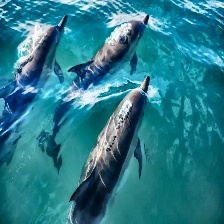dolphin: (67, 75, 151, 224), (67, 14, 150, 91)
